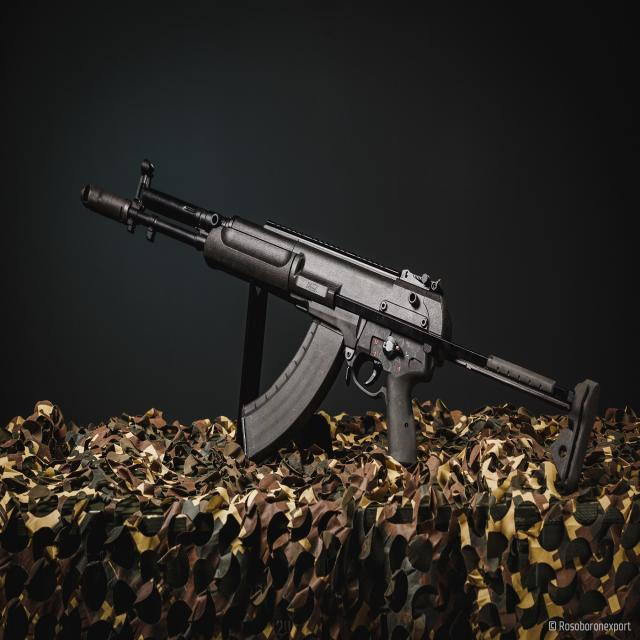Rifle: (80, 161, 598, 480)
